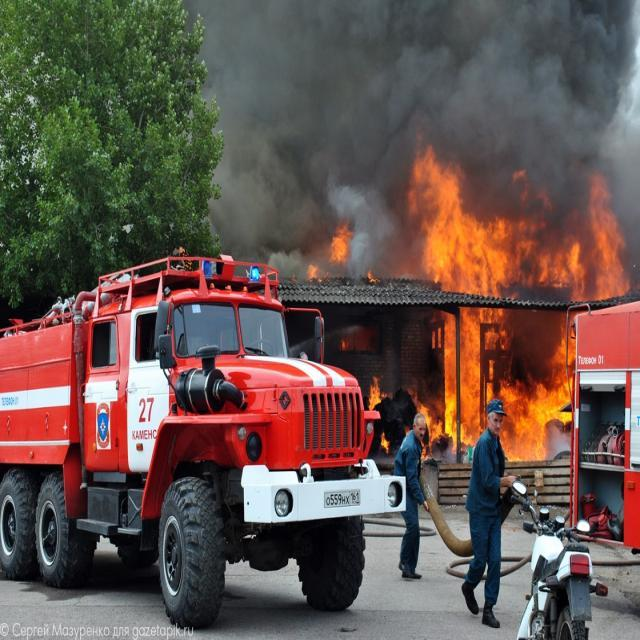Fire: (408, 149, 630, 465), (307, 226, 350, 282), (369, 376, 382, 410), (380, 430, 390, 452)
Smoke: (211, 0, 640, 274)
